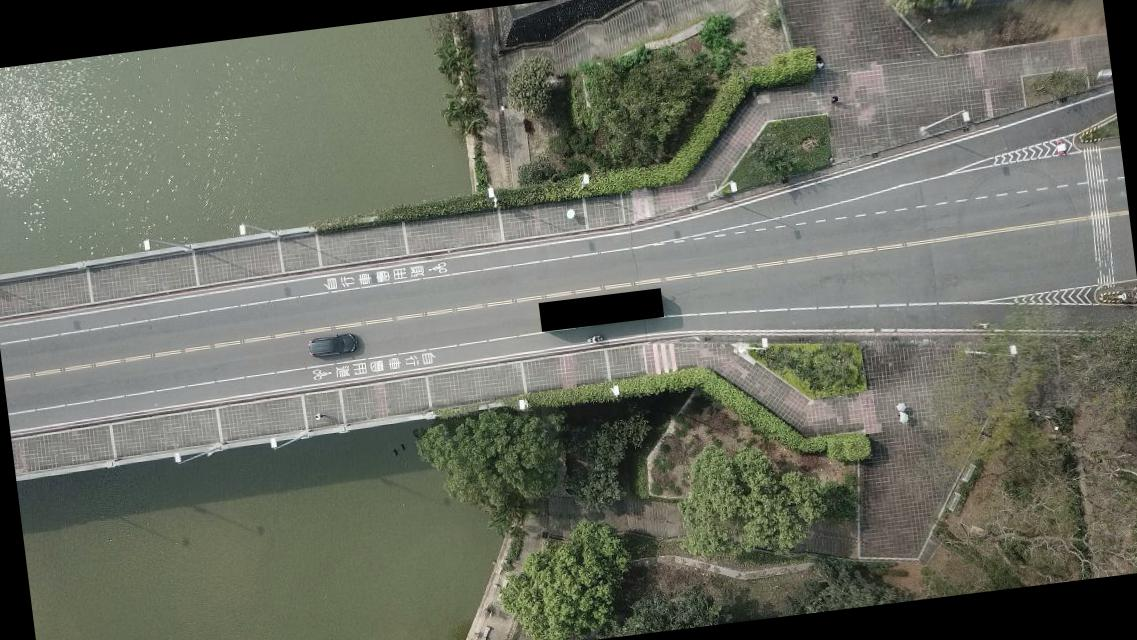vehicle: (307, 331, 359, 358)
